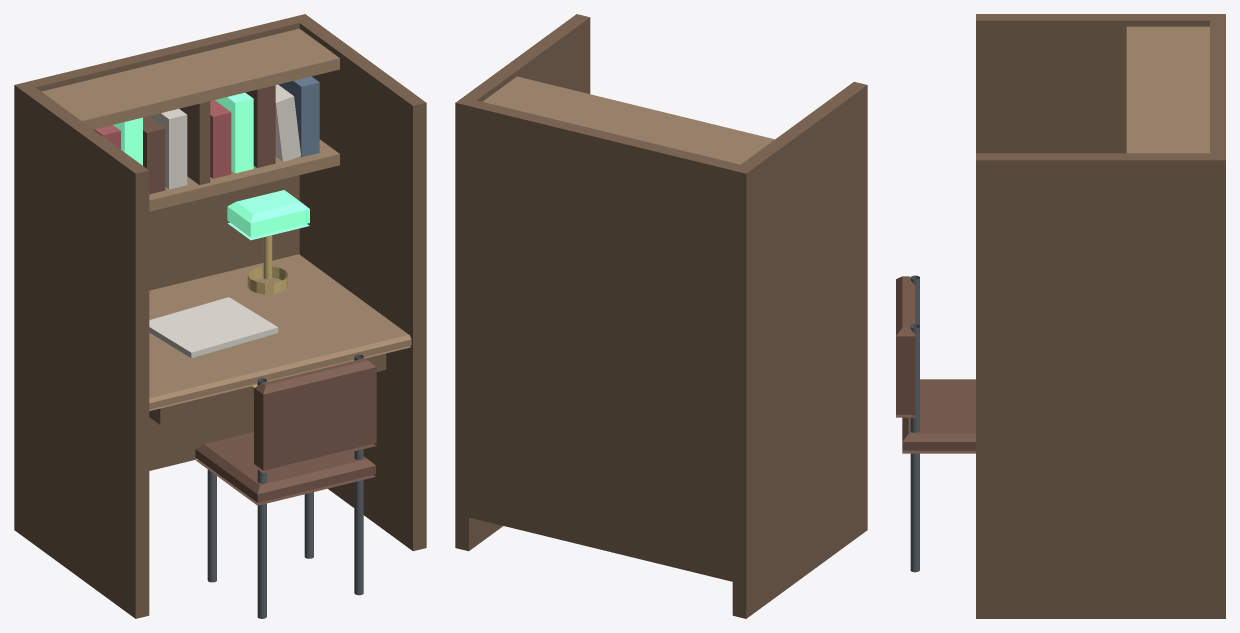
Rendered from sf_pro_dorm_study_carrel.glb.
3 views of the same model, side by side, from view 1: azimuth 30°, elevation 25°; view 2: azimuth 150°, elevation 25°; view 3: azimuth 270°, elevation 25° (orthographic). The views are drawn at different scales.
Parts seen in each view (by area): view 1: ProDormCarrelPure3D_Root; view 2: ProDormCarrelPure3D_Root; view 3: ProDormCarrelPure3D_Root.
Part boxes in pixels (x1=…): ProDormCarrelPure3D_Root: x1=14, y1=14, x2=426, y2=618; ProDormCarrelPure3D_Root: x1=455, y1=14, x2=867, y2=618; ProDormCarrelPure3D_Root: x1=896, y1=14, x2=1225, y2=618.
Size of the model in its own units: 1.08 by 1.58 by 1.03.
